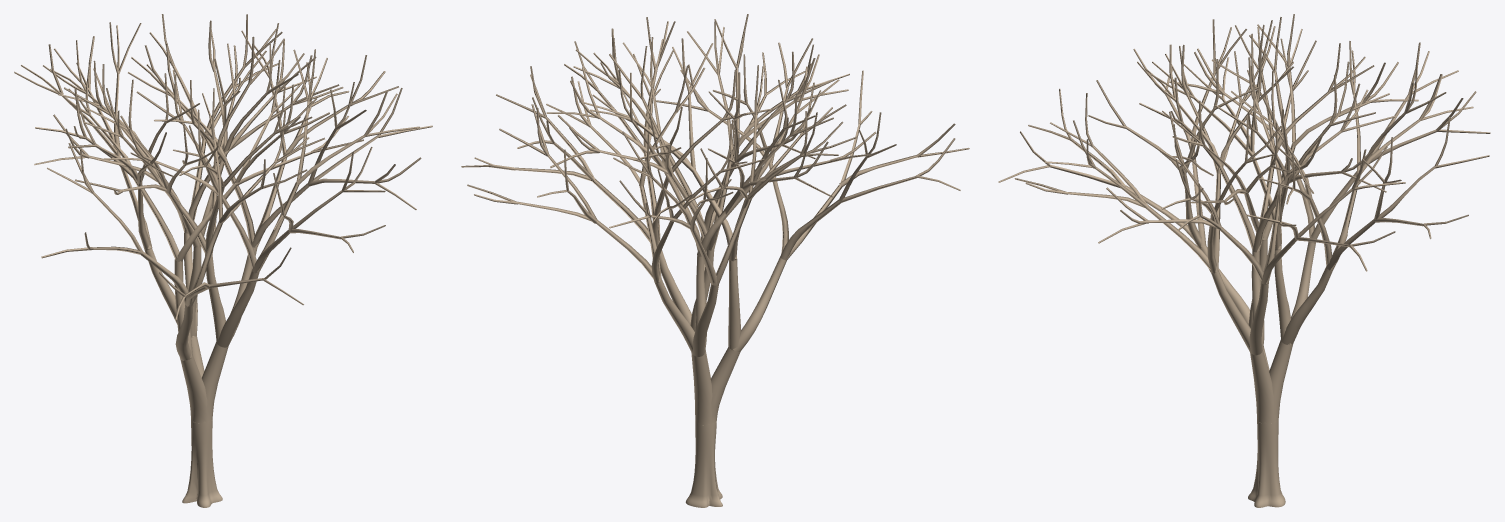
File: accacia_mort1.glb
The picture shows the model from 3 angles, left to right: view 1: azimuth 30°, elevation 25°; view 2: azimuth 150°, elevation 25°; view 3: azimuth 270°, elevation 25°; orthographic projection.
Parts seen in each view (by area): view 1: Acacia_Dry_Green__Mature_; view 2: Acacia_Dry_Green__Mature_; view 3: Acacia_Dry_Green__Mature_.
Part boxes in pixels (x1,y1,x2,y2): Acacia_Dry_Green__Mature_: [14, 14, 432, 507]; Acacia_Dry_Green__Mature_: [461, 14, 969, 507]; Acacia_Dry_Green__Mature_: [998, 14, 1490, 507].
Size of the model in its own units: 4.02 by 4.23 by 4.22.
